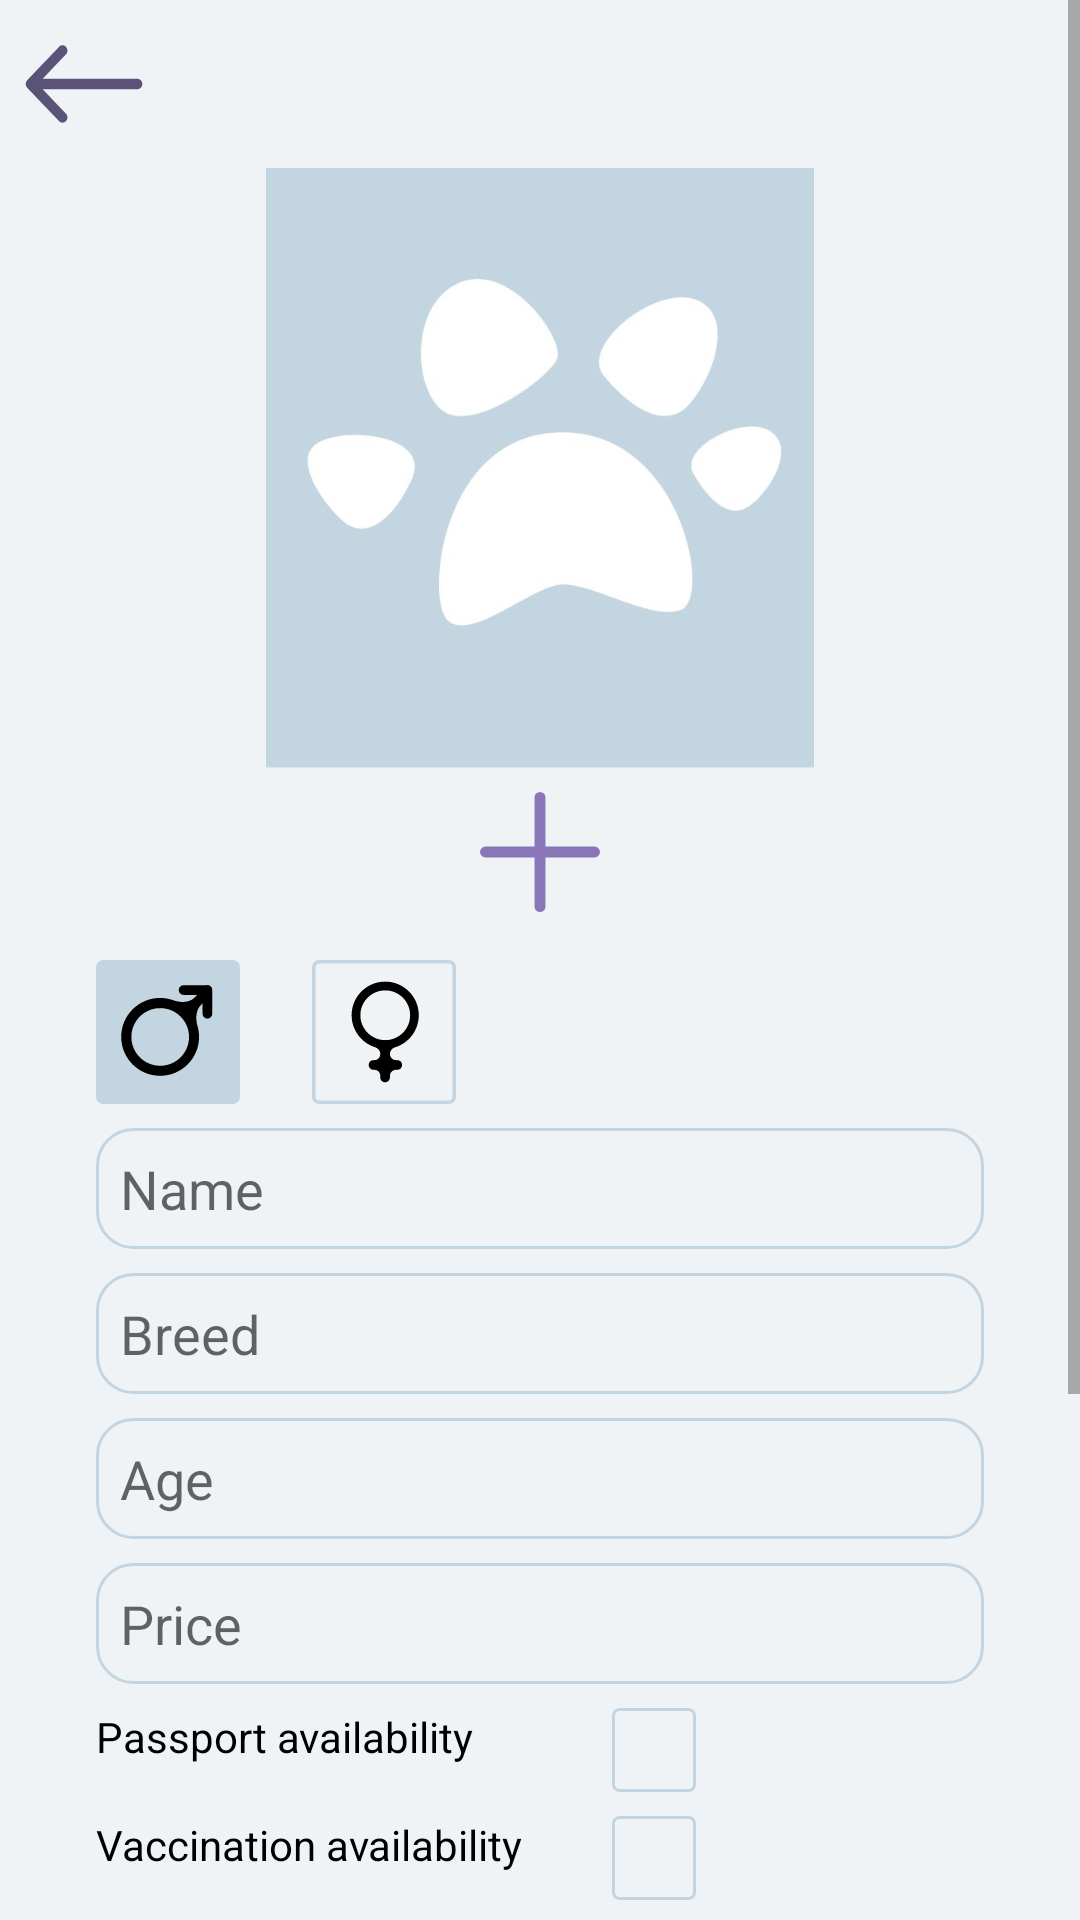

Point at icon controls on the screen. Image size 1080×1920, points as (x=x, y=y).
plus: (x=540, y=852)
